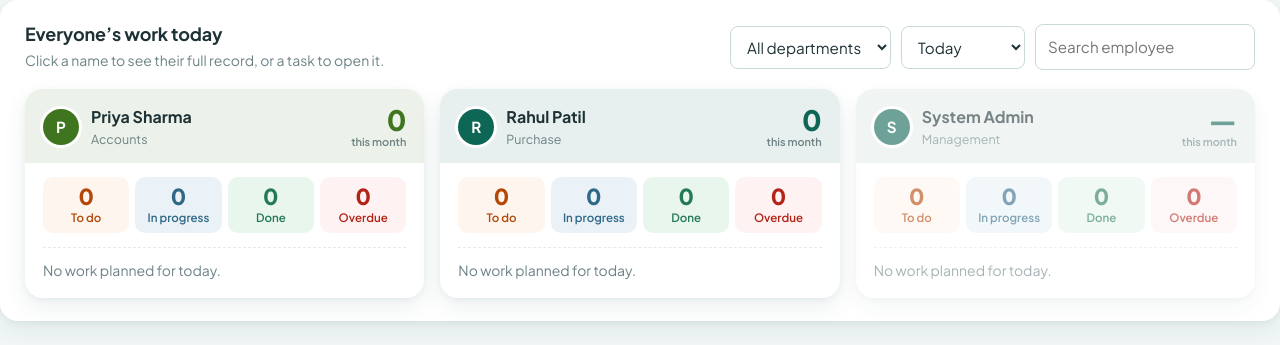
it: TeamOverview › filters team cards by an existing employee department
The image size is (1280, 345).
Expected: the text "Priya Sharma" is shown, [91, 106, 192, 127]
Step 1. Select "Purchase" in the dropdown named "Department" → (810, 47), box [730, 26, 891, 69]
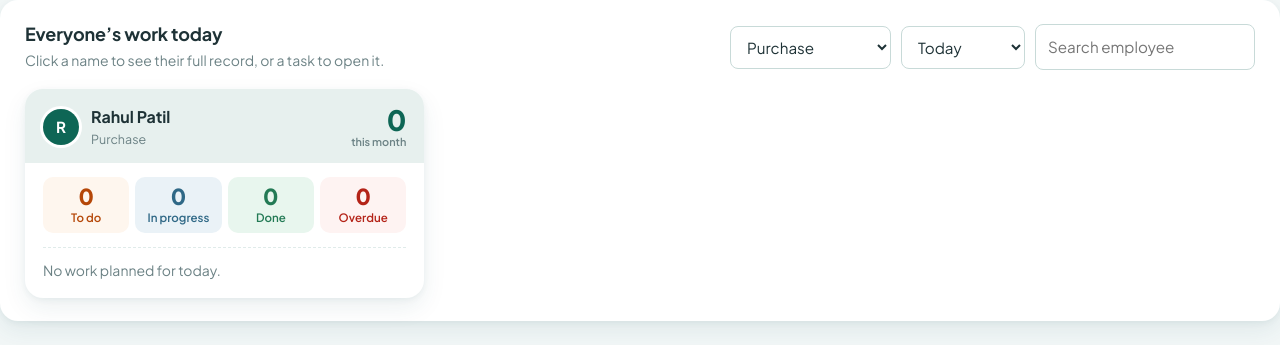
Expected: the text "Rahul Patil" is shown, [91, 106, 170, 127]
Now the link "Priya Sharma" is gone
